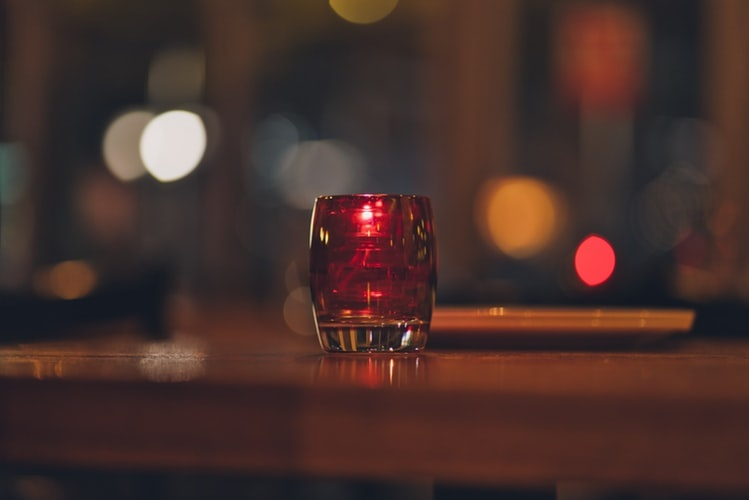whiskey: (312, 193, 431, 344)
